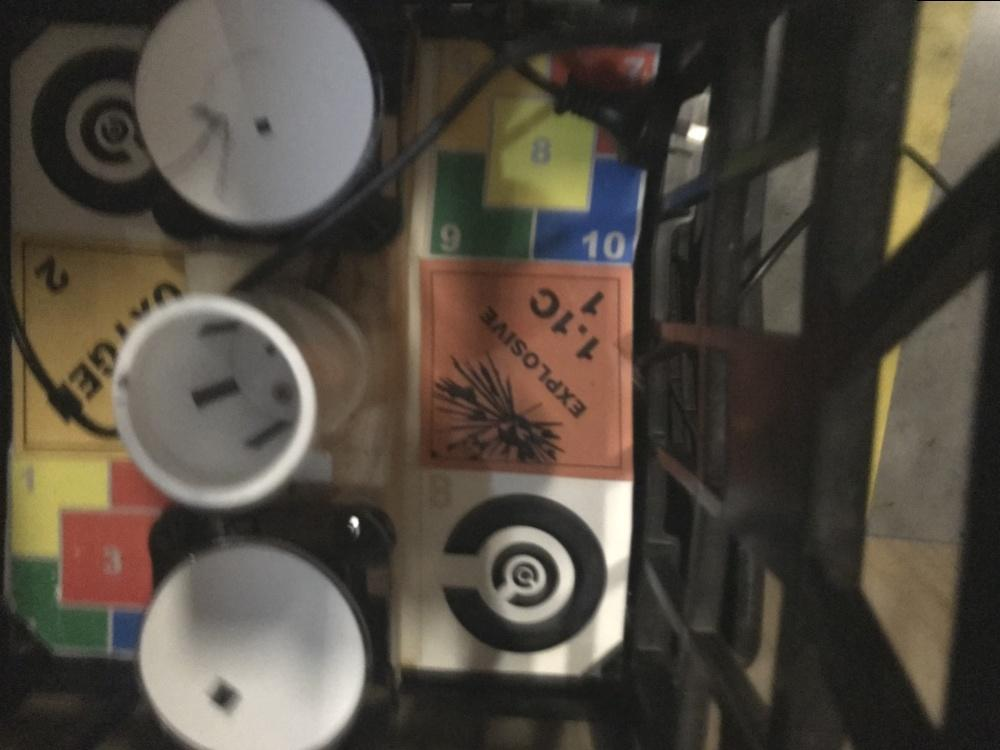explosive: (418, 261, 644, 486)
oxidizer: (14, 237, 193, 468)
